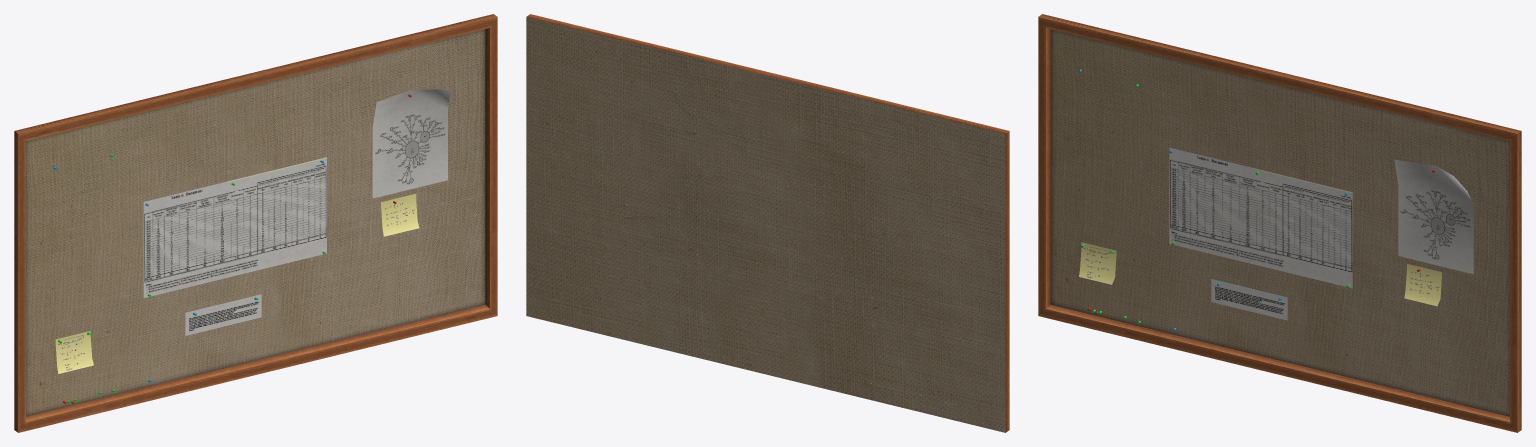
The model's file is bulletin_board02.dae.
3 renders of one model, left to right at view 1: azimuth 30°, elevation 25°; view 2: azimuth 150°, elevation 25°; view 3: azimuth 330°, elevation 25°, orthographic.
Parts seen in each view (by area): view 1: polySurface52; view 2: polySurface52; view 3: polySurface52.
Boxes of the visible parts, bbox=[...] form: polySurface52: bbox=[14, 14, 497, 432]; polySurface52: bbox=[526, 14, 1009, 432]; polySurface52: bbox=[1038, 14, 1521, 432].
Bounding box in the file's own units: 174 × 104 × 7.38.
